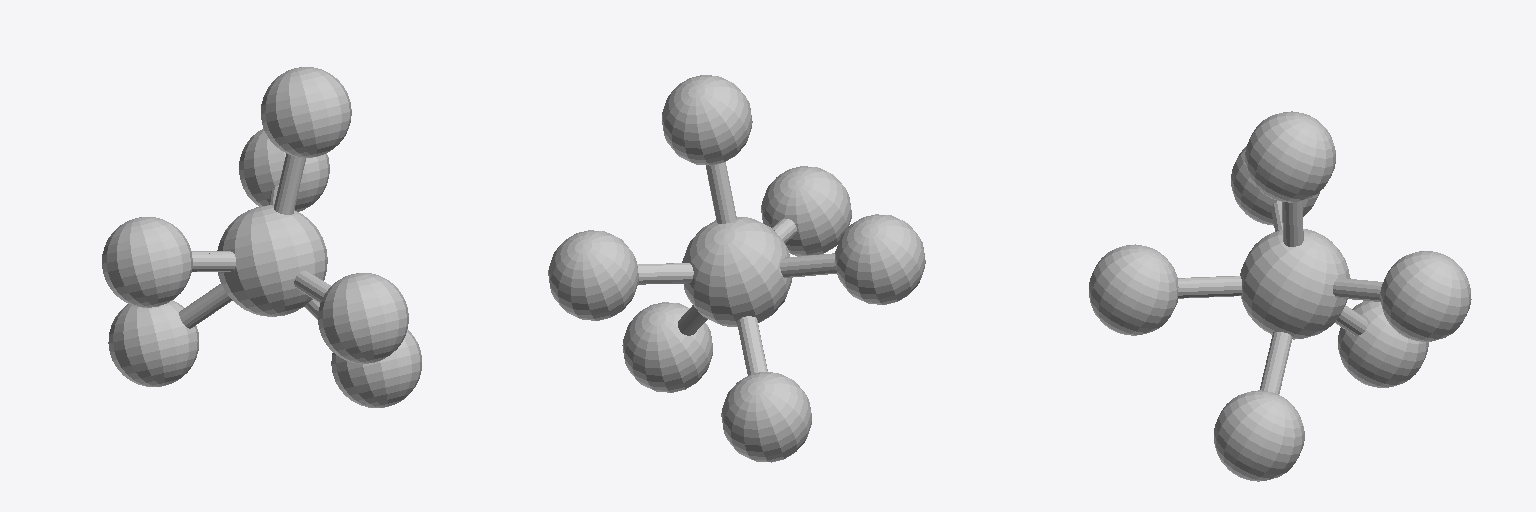
The model's file is hexafluoreto_de_enxofre .obj.
3 renders of one model, left to right at view 1: azimuth 30°, elevation 25°; view 2: azimuth 150°, elevation 25°; view 3: azimuth 270°, elevation 25°, orthographic.
Parts seen in each view (by area): view 1: Shape_Sphere_Shape_Sphere.001, Shape_Sphere.005_Shape_Sphere.006, Shape_Sphere.004_Shape_Sphere.005, Shape_Sphere.001_Shape_Sphere.002, Shape_Sphere.002_Shape_Sphere.003, Shape_Sphere.003_Shape_Sphere.004, Shape_Sphere.006_Shape_Sphere, Shape_Cylinder.007, Shape_Cylinder.006, Shape_Cylinder.002; view 2: Shape_Sphere_Shape_Sphere.001, Shape_Sphere.001_Shape_Sphere.002, Shape_Sphere.004_Shape_Sphere.005, Shape_Sphere.002_Shape_Sphere.003, Shape_Sphere.006_Shape_Sphere, Shape_Sphere.003_Shape_Sphere.004, Shape_Sphere.005_Shape_Sphere.006, Shape_Cylinder.007, Shape_Cylinder.006, Shape_Cylinder.003, Shape_Cylinder.011, Shape_Cylinder.001 (+3 smaller); view 3: Shape_Sphere_Shape_Sphere.001, Shape_Sphere.003_Shape_Sphere.004, Shape_Sphere.006_Shape_Sphere, Shape_Sphere.004_Shape_Sphere.005, Shape_Sphere.005_Shape_Sphere.006, Shape_Sphere.002_Shape_Sphere.003, Shape_Sphere.001_Shape_Sphere.002, Shape_Cylinder.008, Shape_Cylinder.009, Shape_Cylinder.005, Shape_Cylinder.004.
Boxes of the visible parts, x1=… form: Shape_Sphere_Shape_Sphere.001: x1=217, y1=205, x2=327, y2=316; Shape_Sphere.005_Shape_Sphere.006: x1=318, y1=273, x2=408, y2=363; Shape_Sphere.004_Shape_Sphere.005: x1=261, y1=67, x2=351, y2=157; Shape_Sphere.001_Shape_Sphere.002: x1=102, y1=217, x2=192, y2=307; Shape_Sphere.002_Shape_Sphere.003: x1=108, y1=300, x2=198, y2=386; Shape_Sphere.003_Shape_Sphere.004: x1=331, y1=329, x2=421, y2=407; Shape_Sphere.006_Shape_Sphere: x1=239, y1=128, x2=329, y2=211; Shape_Cylinder.007: x1=274, y1=181, x2=299, y2=214; Shape_Cylinder.006: x1=280, y1=153, x2=305, y2=185; Shape_Cylinder.002: x1=179, y1=296, x2=213, y2=328; Shape_Sphere_Shape_Sphere.001: x1=682, y1=217, x2=791, y2=326; Shape_Sphere.001_Shape_Sphere.002: x1=835, y1=214, x2=925, y2=304; Shape_Sphere.004_Shape_Sphere.005: x1=662, y1=75, x2=752, y2=165; Shape_Sphere.002_Shape_Sphere.003: x1=721, y1=372, x2=811, y2=462; Shape_Sphere.006_Shape_Sphere: x1=548, y1=230, x2=638, y2=320; Shape_Sphere.003_Shape_Sphere.004: x1=622, y1=302, x2=712, y2=392; Shape_Sphere.005_Shape_Sphere.006: x1=761, y1=166, x2=851, y2=255; Shape_Cylinder.007: x1=711, y1=191, x2=736, y2=223; Shape_Cylinder.006: x1=706, y1=162, x2=730, y2=194; Shape_Cylinder.003: x1=737, y1=316, x2=762, y2=349; Shape_Cylinder.011: x1=662, y1=263, x2=693, y2=283; Shape_Cylinder.001: x1=780, y1=255, x2=812, y2=277; Shape_Sphere_Shape_Sphere.001: x1=1240, y1=229, x2=1350, y2=339; Shape_Sphere.003_Shape_Sphere.004: x1=1214, y1=390, x2=1304, y2=481; Shape_Sphere.006_Shape_Sphere: x1=1380, y1=251, x2=1471, y2=341; Shape_Sphere.004_Shape_Sphere.005: x1=1245, y1=111, x2=1335, y2=202; Shape_Sphere.005_Shape_Sphere.006: x1=1089, y1=244, x2=1178, y2=335; Shape_Sphere.002_Shape_Sphere.003: x1=1338, y1=301, x2=1428, y2=387; Shape_Sphere.001_Shape_Sphere.002: x1=1231, y1=146, x2=1319, y2=225; Shape_Cylinder.008: x1=1178, y1=277, x2=1209, y2=298; Shape_Cylinder.009: x1=1209, y1=276, x2=1241, y2=296; Shape_Cylinder.005: x1=1266, y1=332, x2=1292, y2=365; Shape_Cylinder.004: x1=1260, y1=361, x2=1285, y2=394.
Size of the model in its own units: 3.34 by 3.56 by 3.7.